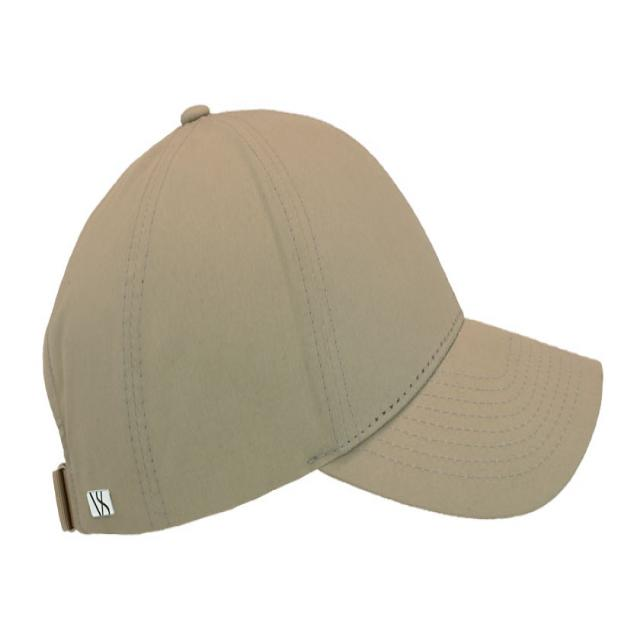Cap: (38, 70, 590, 564)
